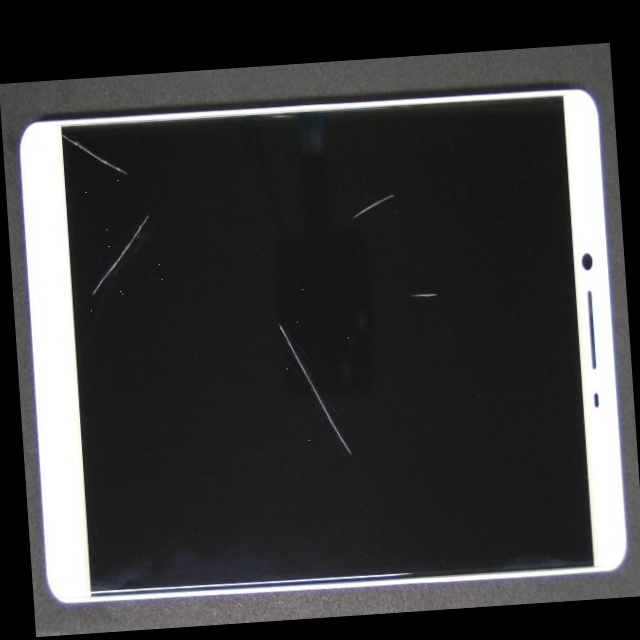scratch: (90, 103, 440, 537), (184, 164, 621, 451), (145, 150, 543, 328), (104, 92, 189, 310), (25, 86, 87, 165)
